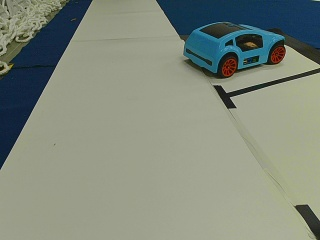car: (184, 22, 285, 77)
